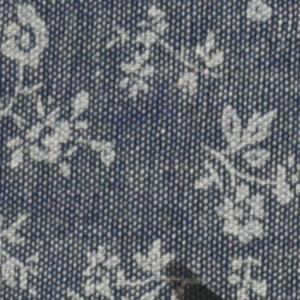Stain: (149, 256, 232, 300)
